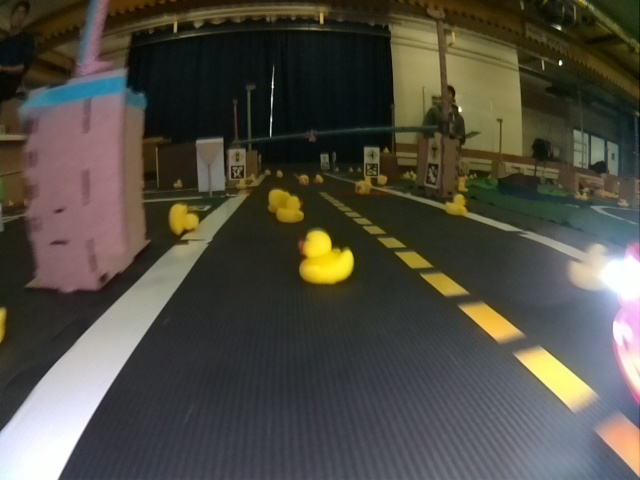Duckie: (297, 232, 354, 285), (566, 245, 609, 288), (171, 204, 199, 234), (280, 197, 303, 222), (446, 195, 468, 213), (356, 181, 371, 193), (237, 179, 246, 189), (315, 174, 323, 184), (377, 176, 387, 184), (300, 176, 308, 184)
Duckiebot: (613, 240, 639, 407)
Intersection sign: (429, 140, 440, 161), (366, 149, 378, 162)
QR code: (425, 165, 439, 184), (230, 166, 244, 179), (365, 164, 378, 177)
Signal sign: (231, 150, 244, 161)
